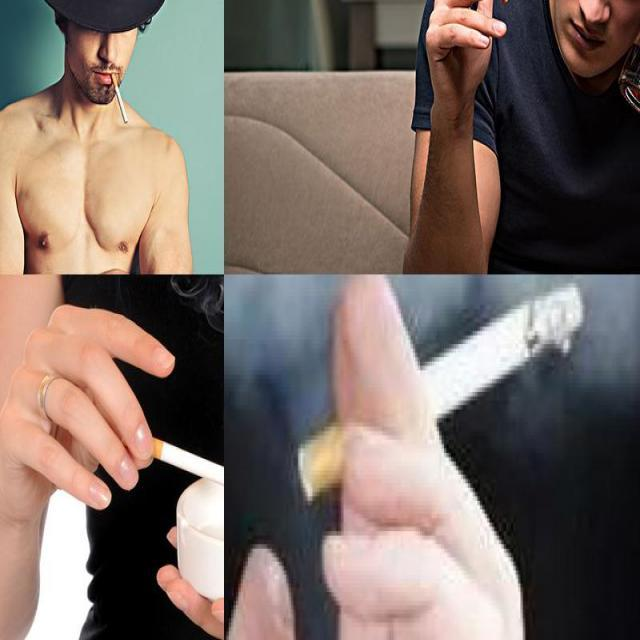smoke: (297, 282, 585, 502), (119, 428, 223, 496), (110, 71, 129, 124)
